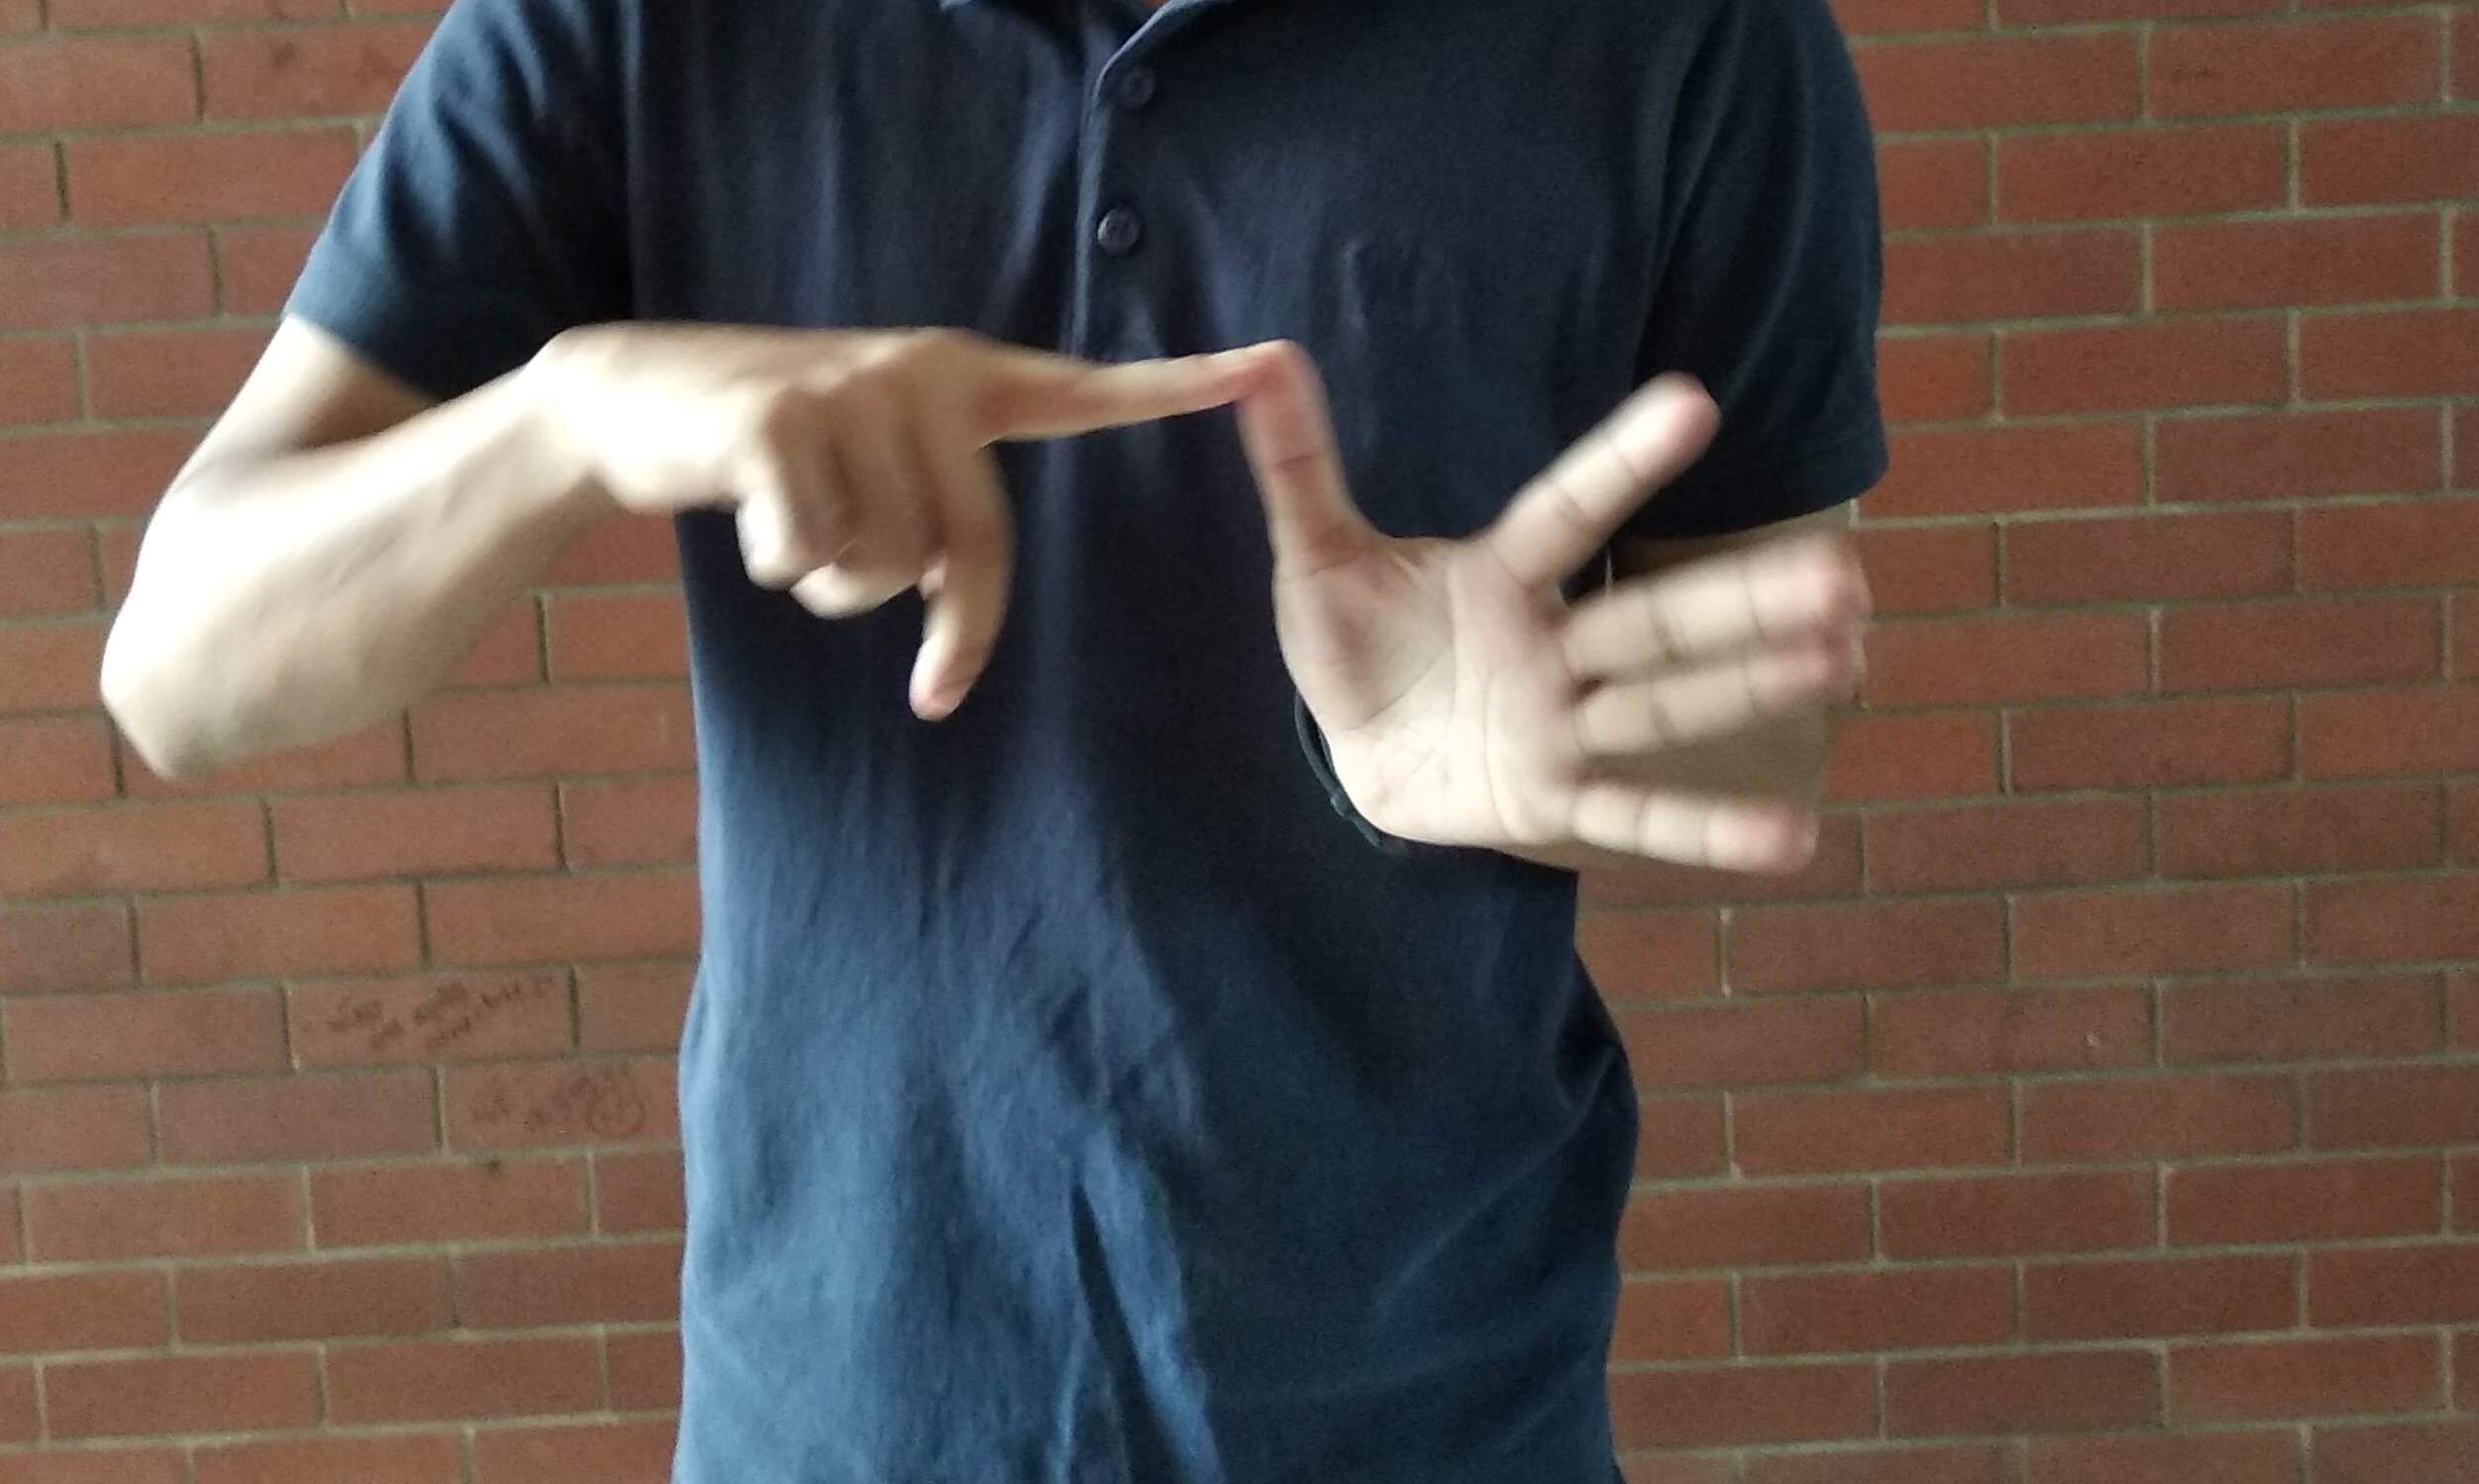a: (686, 304, 1855, 922)
